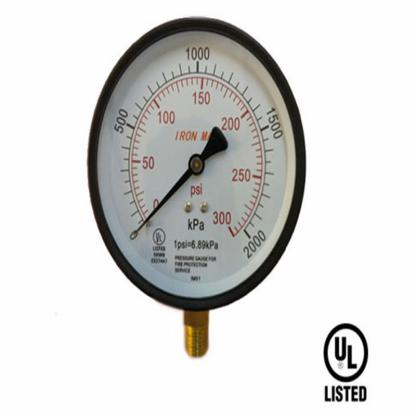needle: (136, 166, 194, 233)
